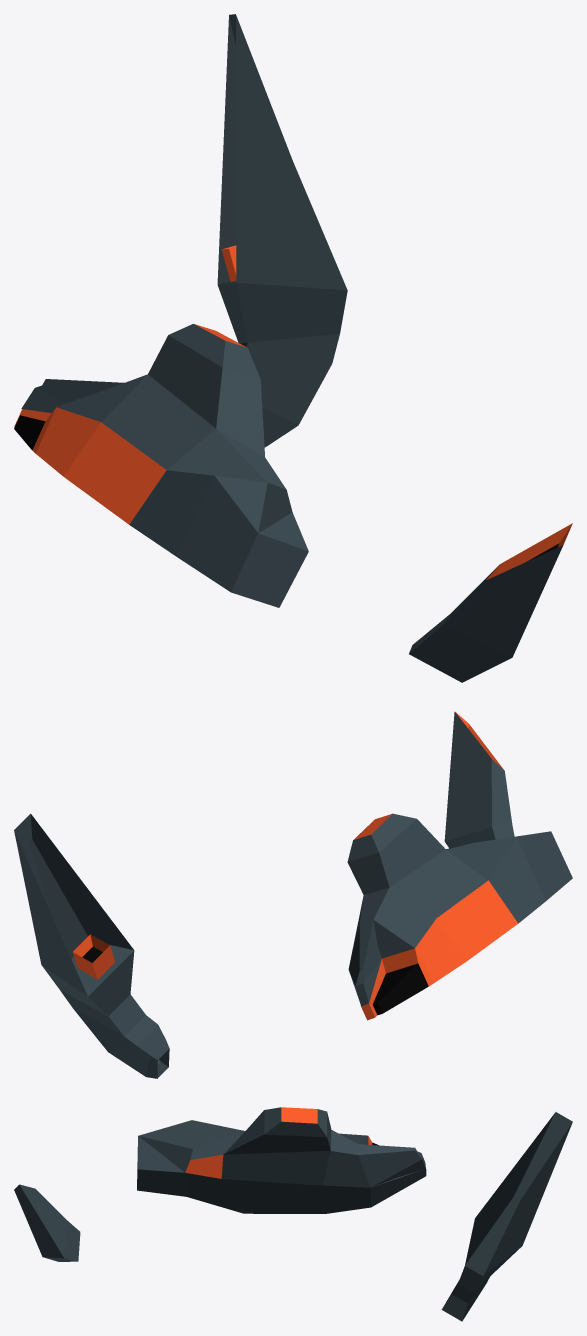
File: BSS.fbx
The picture shows the model from 3 angles, top to bottom: view 1: azimuth 30°, elevation 25°; view 2: azimuth 150°, elevation 25°; view 3: azimuth 270°, elevation 25°; orthographic projection. The views are drawn at different scales.
Visible parts, largest first — view 1: Cube; view 2: Cube; view 3: Cube.
Boxes of the visible parts, box(x1,y1,x2,y2) form: Cube: box(14, 14, 572, 682); Cube: box(14, 711, 572, 1078); Cube: box(14, 1107, 572, 1321).
Bounding box in the file's own units: 715 × 625 × 1384.
1 material, 1 textured.
